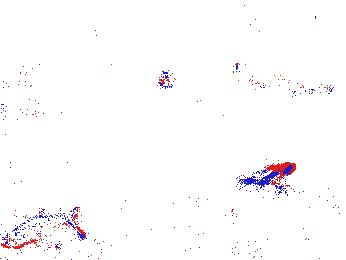X-ray fish: (38, 68, 72, 101), (155, 58, 184, 90)
red belly glassfish: (242, 159, 297, 190), (266, 178, 300, 198)
redtail glassfish: (1, 209, 78, 249), (248, 72, 338, 100)
